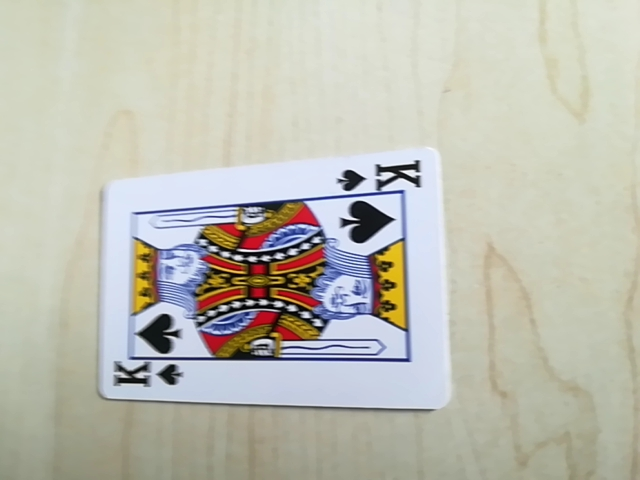ht k: (334, 157, 427, 196), (107, 356, 183, 395)
